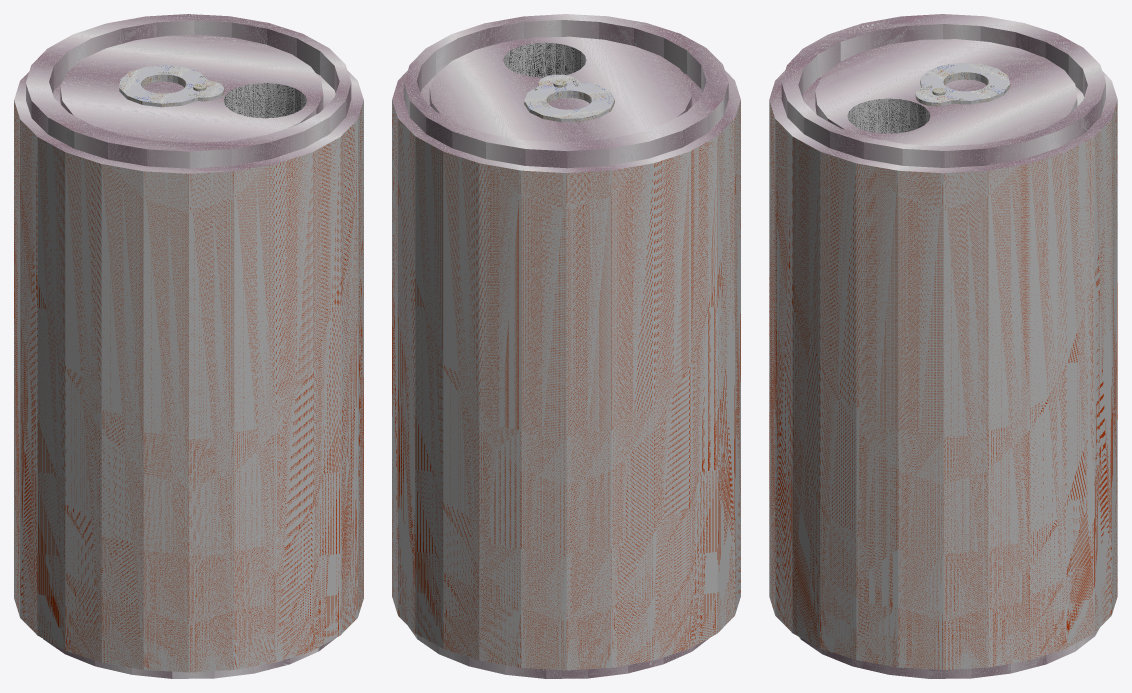
3 views of the same model, side by side, from view 1: azimuth 30°, elevation 25°; view 2: azimuth 150°, elevation 25°; view 3: azimuth 270°, elevation 25° (orthographic).
Parts seen in each view (by area): view 1: mesh1_mesh1-geometry; view 2: mesh1_mesh1-geometry; view 3: mesh1_mesh1-geometry.
Boxes of the visible parts, x1,y1,x2,y2 form: mesh1_mesh1-geometry: [14, 14, 363, 678]; mesh1_mesh1-geometry: [392, 14, 740, 678]; mesh1_mesh1-geometry: [769, 14, 1117, 678].
Bounding box in the file's own units: 0.4565 × 0.7637 × 0.4565.
